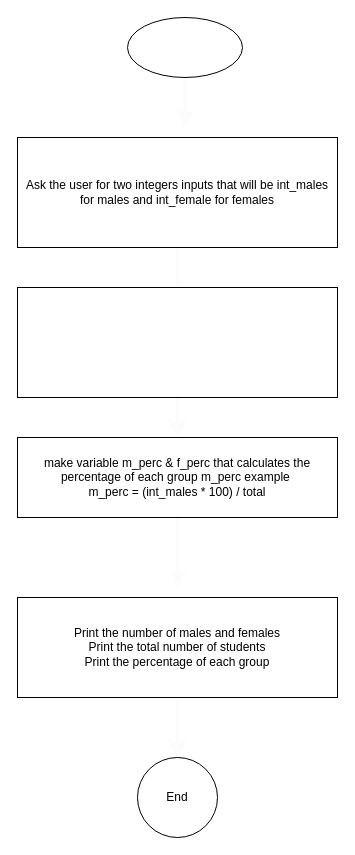
This 355x855 diagram has some shape labels left out. The centre of each missing label's shape, as x and y in pixels:
"Start" goes at (184,47).
"Then make a total variable that equals the sum of the int_males and int_females" goes at (177,342).
